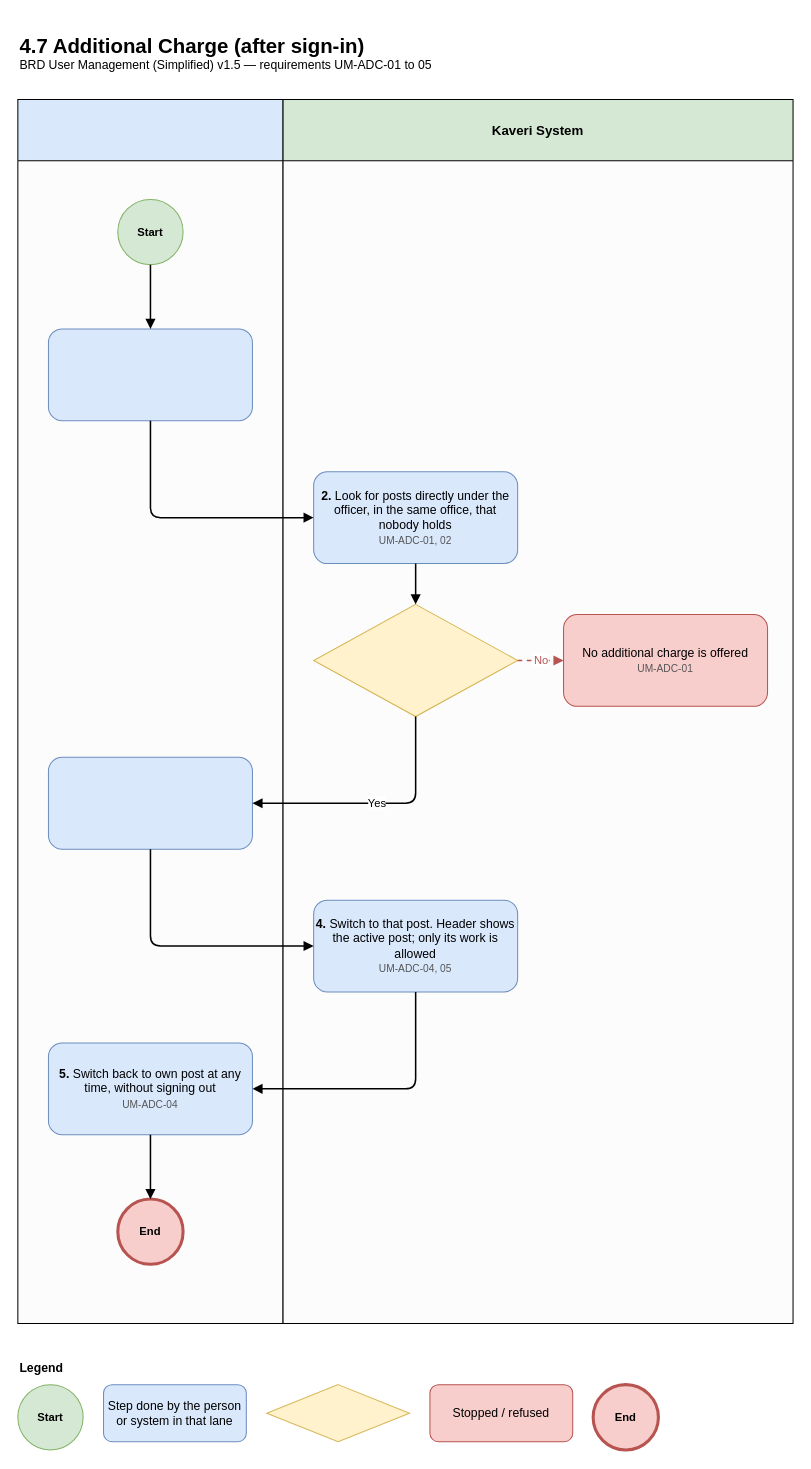
Some shapes in this 811 by 1469 pixel diagram are drawn without their labels. Here are the shapes that lost their labels. From the top down, the box of each, then its label:
(47, 328, 252, 421): 1. Sign in and select the post UM-LOG-09
(313, 603, 518, 717): Any such post?
(17, 98, 283, 1323): DSR Officer
(47, 756, 252, 849): 3. Select one post to take charge of (no order needed; one at a time) UM-ADC-03
(266, 1384, 410, 1442): Check / choice
